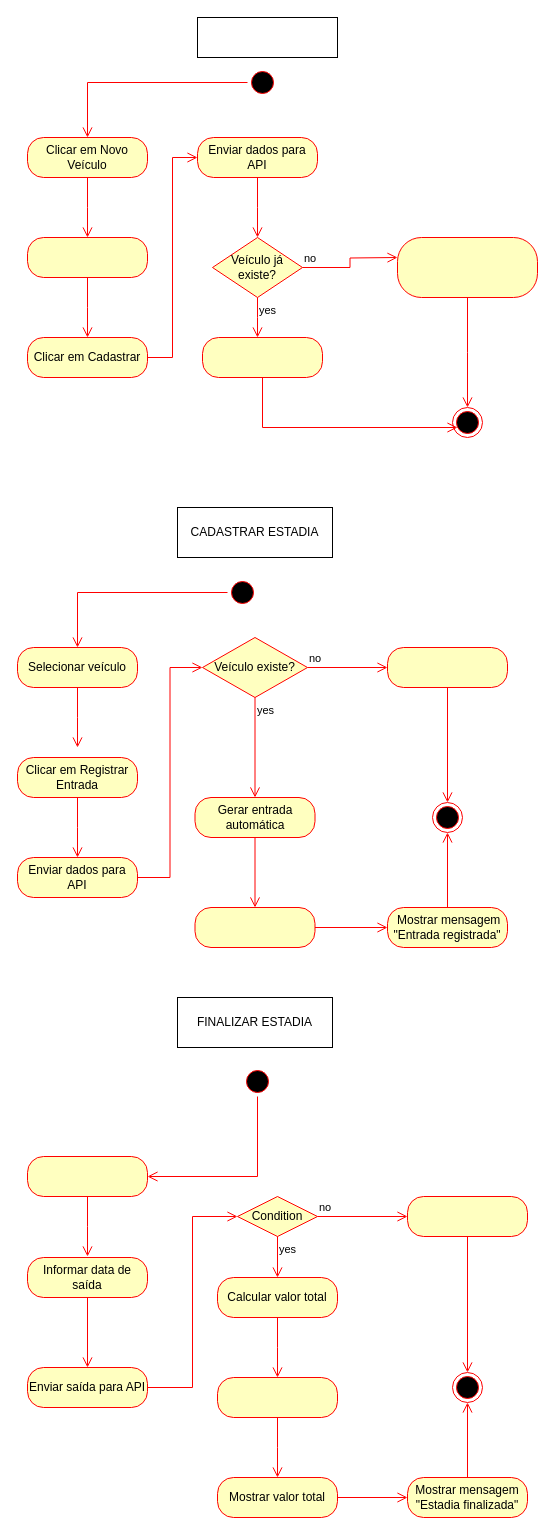
Image size: 555x1535. Some labels were removed from this diagram. The centre of each missing label's shape, as x and y in pixels:
Atualizar estadia: (x=277, y=1397)
CADASTRAR VEÍCULO: (x=267, y=37)
Cadastrar veículo Mostrar mensagem "Cadastro realizado com sucesso": (x=467, y=267)
Mostrar mensagem "Saída inválida": (x=467, y=1216)
Mostrar mensagem "Veículo já cadastrado": (x=262, y=357)
Mostrar mensagem "Veículo não encontrado": (x=447, y=667)
Preencher os campos obrigatórios: (x=87, y=257)
Salvar estadia: (x=254, y=927)
Selecionar estadia: (x=87, y=1176)
